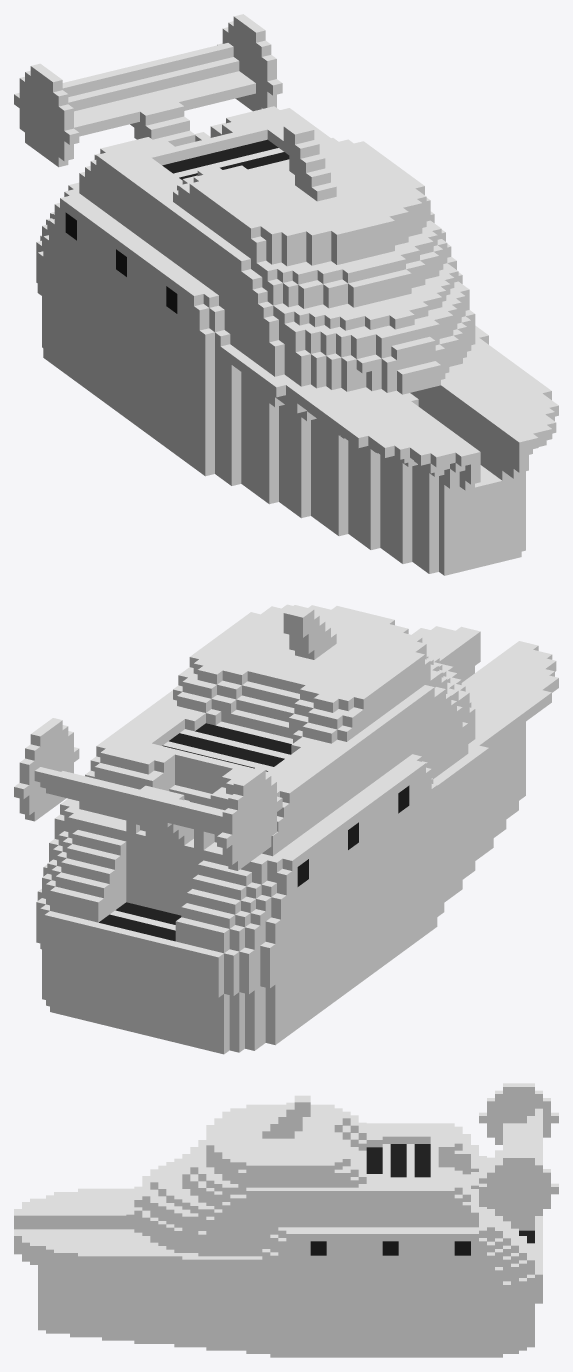
File: Boat.fbx
3 views of the same model, one above another, from view 1: azimuth 30°, elevation 25°; view 2: azimuth 150°, elevation 25°; view 3: azimuth 270°, elevation 25° (orthographic). The views are drawn at different scales.
Visible parts, largest first — view 1: Boat; view 2: Boat; view 3: Boat.
Boxes of the visible parts, x1,y1,x2,y2 form: Boat: (14, 14, 558, 575); Boat: (14, 604, 558, 1054); Boat: (14, 1083, 558, 1357).
Bounding box in the file's own units: 240 × 300 × 680.
Materials: 1 (1 with a texture image).
